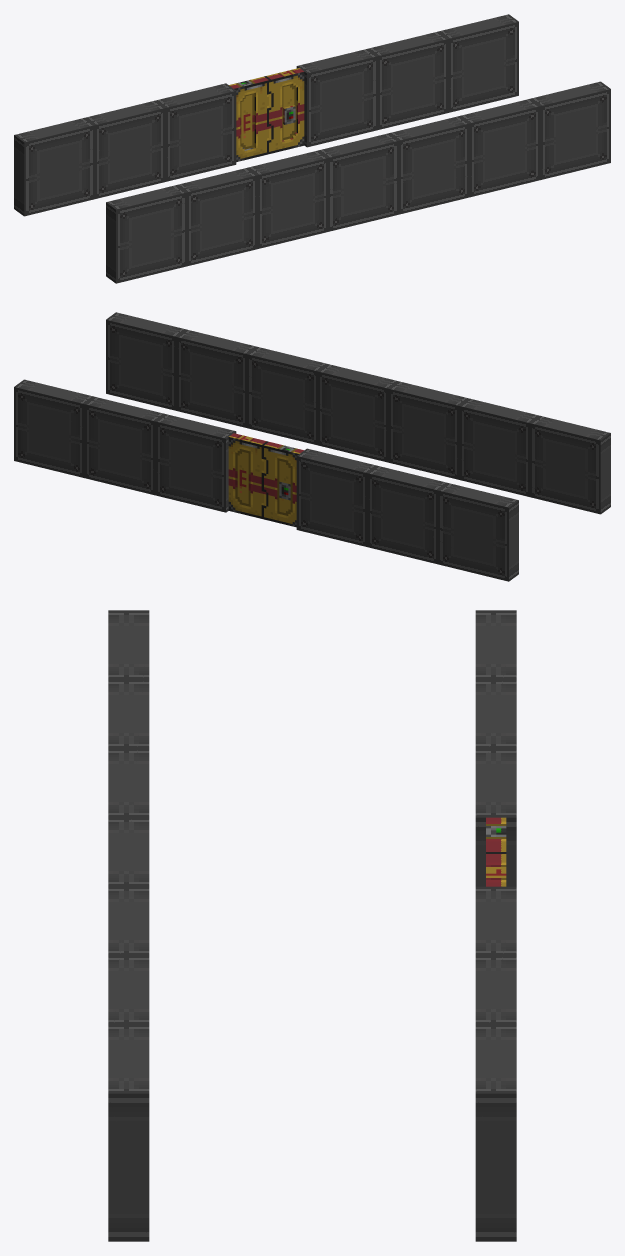
File: engenharia.fbx
The picture shows the model from 3 angles, top to bottom: view 1: azimuth 30°, elevation 25°; view 2: azimuth 150°, elevation 25°; view 3: azimuth 270°, elevation 25°; orthographic projection. The views are drawn at different scales.
Parts seen in each view (by area): view 1: Cube_1, Cube, Cube_1_2, Cube_2, Cube_3; view 2: Cube_1, Cube, Cube_1_2, Cube_2, Cube_3; view 3: Cube_1, Cube_1_2, Cube.
Part boxes in pixels (x1,y1,x2,y2): Cube_1: [106, 81, 610, 283]; Cube: [14, 83, 236, 216]; Cube_1_2: [296, 14, 518, 147]; Cube_2: [229, 76, 273, 161]; Cube_3: [264, 68, 304, 153]; Cube_1: [106, 312, 610, 514]; Cube: [296, 448, 518, 581]; Cube_1_2: [14, 379, 236, 512]; Cube_2: [259, 442, 303, 527]; Cube_3: [228, 433, 268, 519]; Cube_1: [108, 610, 149, 1241]; Cube_1_2: [475, 886, 516, 1241]; Cube: [475, 610, 516, 886].
Size of the model in its own units: 1400 by 200 by 500.
2 materials, 2 textured.
